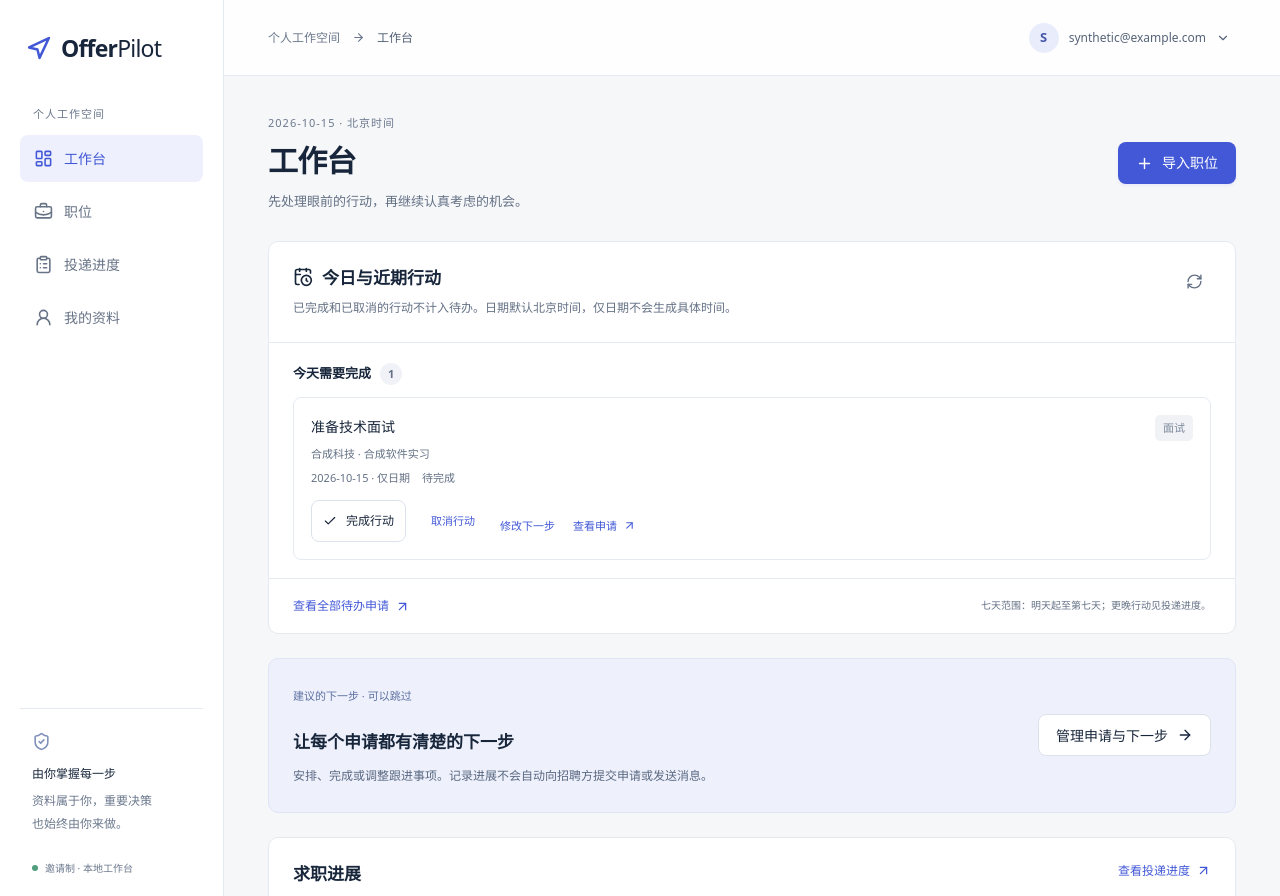
Test: blocks stale row writes until the workbench has been refreshed
The image size is (1280, 896).
Click the button "完成行动" at (358, 521), box [311,500,406,542]
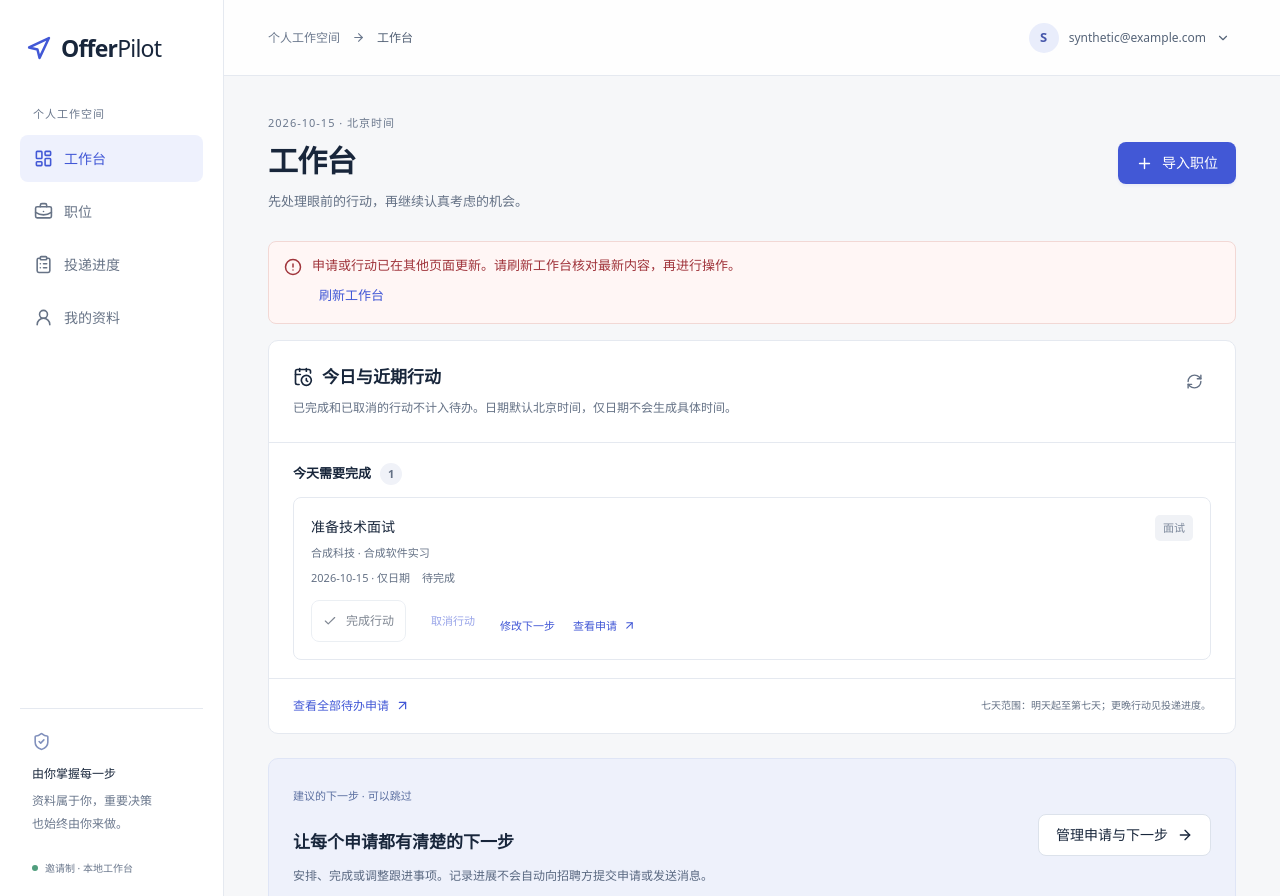
Expected: the message "申请或行动已在其他页面更新。请刷新工作台核对最新内容，再进行操作。 刷新工作台" is shown, [268,241,1236,324]
Expected: the button "完成行动" is disabled, [311,600,406,642]
Click the button "刷新工作台" at (352, 296), box [312,281,391,310]
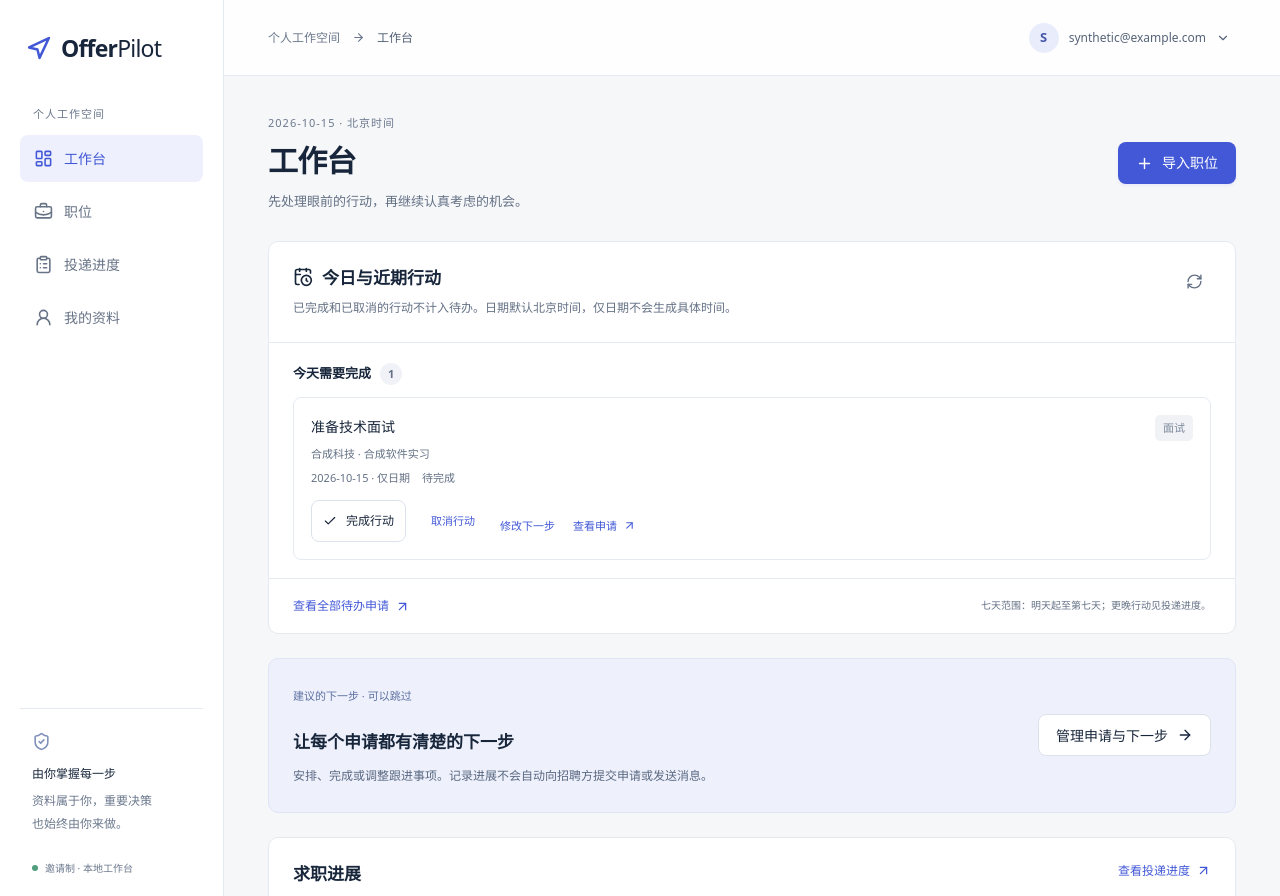
Expected: the button "完成行动" is enabled, [311,500,406,542]
